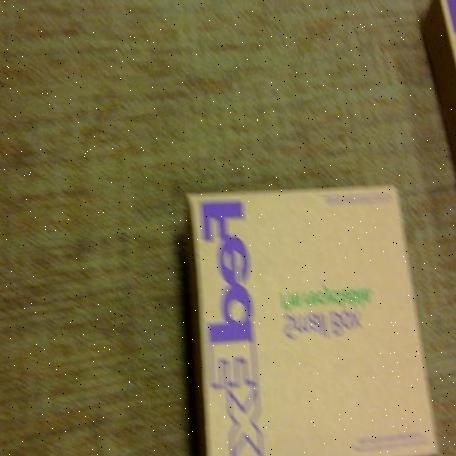Amazon: (200, 178, 417, 456)
